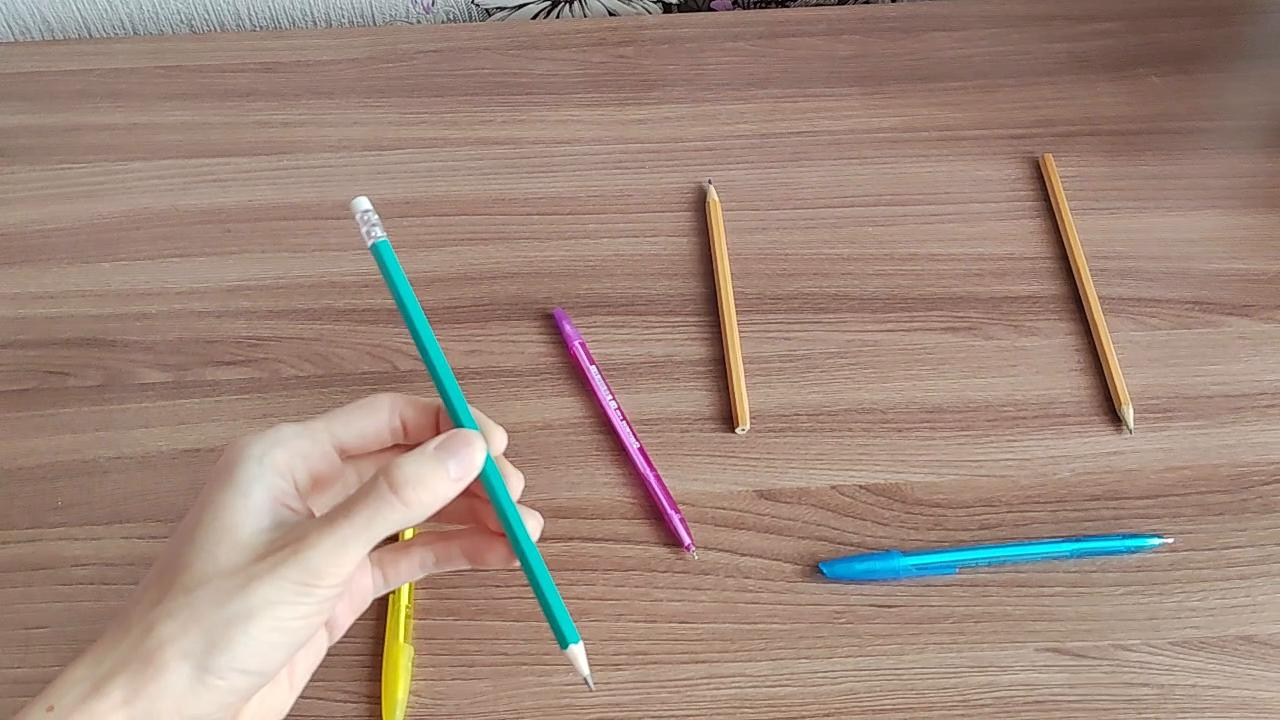pen: (550, 303, 699, 563), (813, 529, 1184, 587), (379, 525, 421, 720)
pencil: (344, 197, 599, 695), (1034, 146, 1137, 438), (704, 176, 754, 438)
